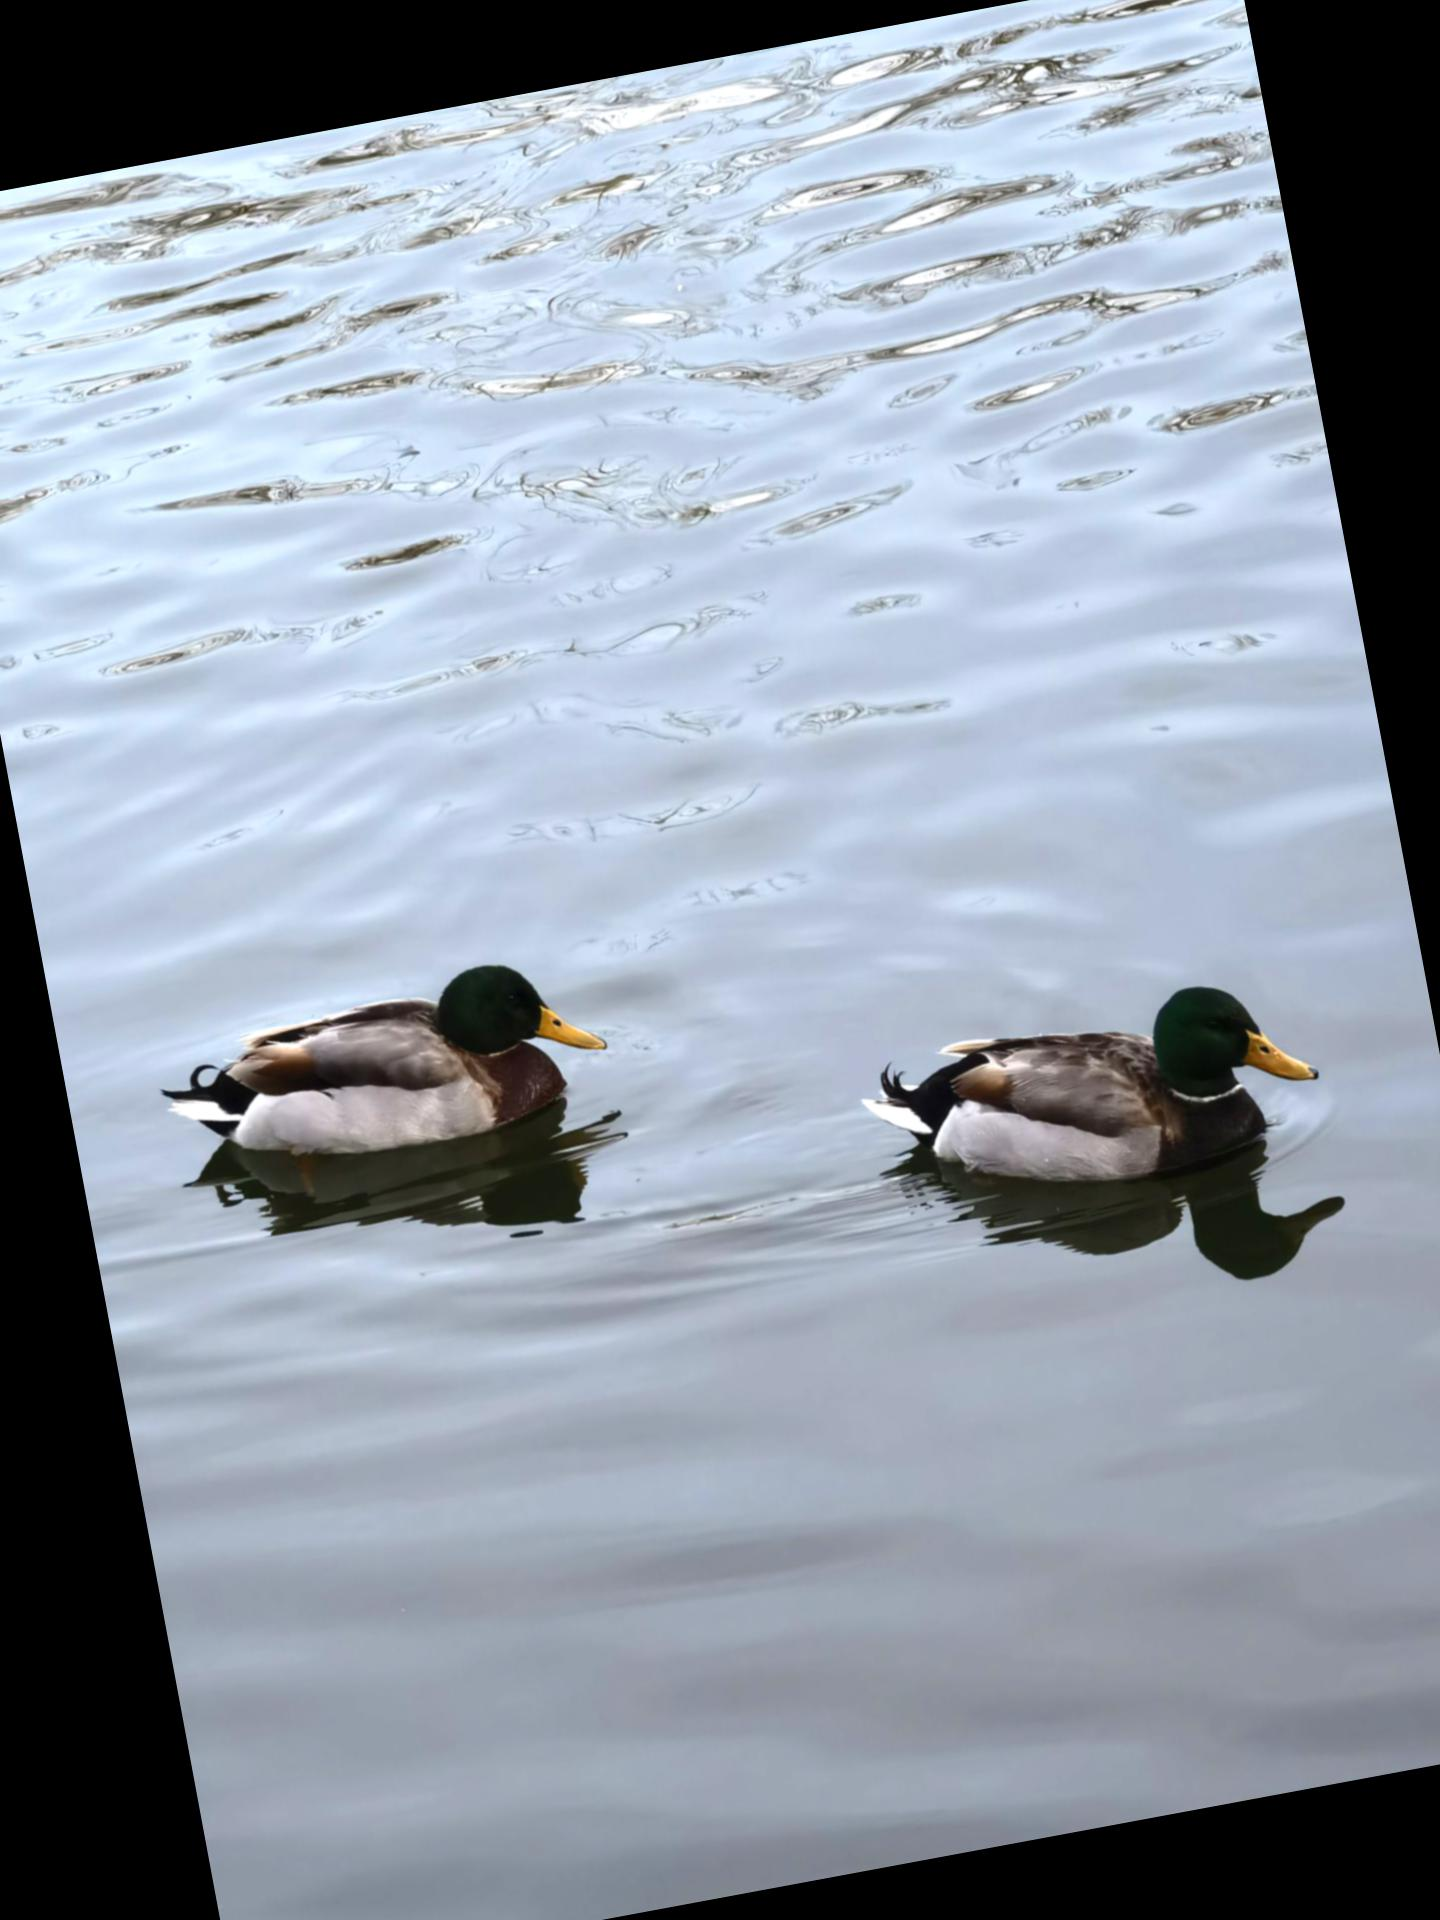duck: (113, 915, 638, 1268), (811, 931, 1349, 1240)
